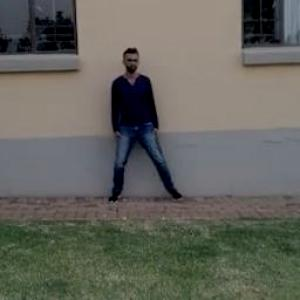follow: (110, 45, 157, 205)
